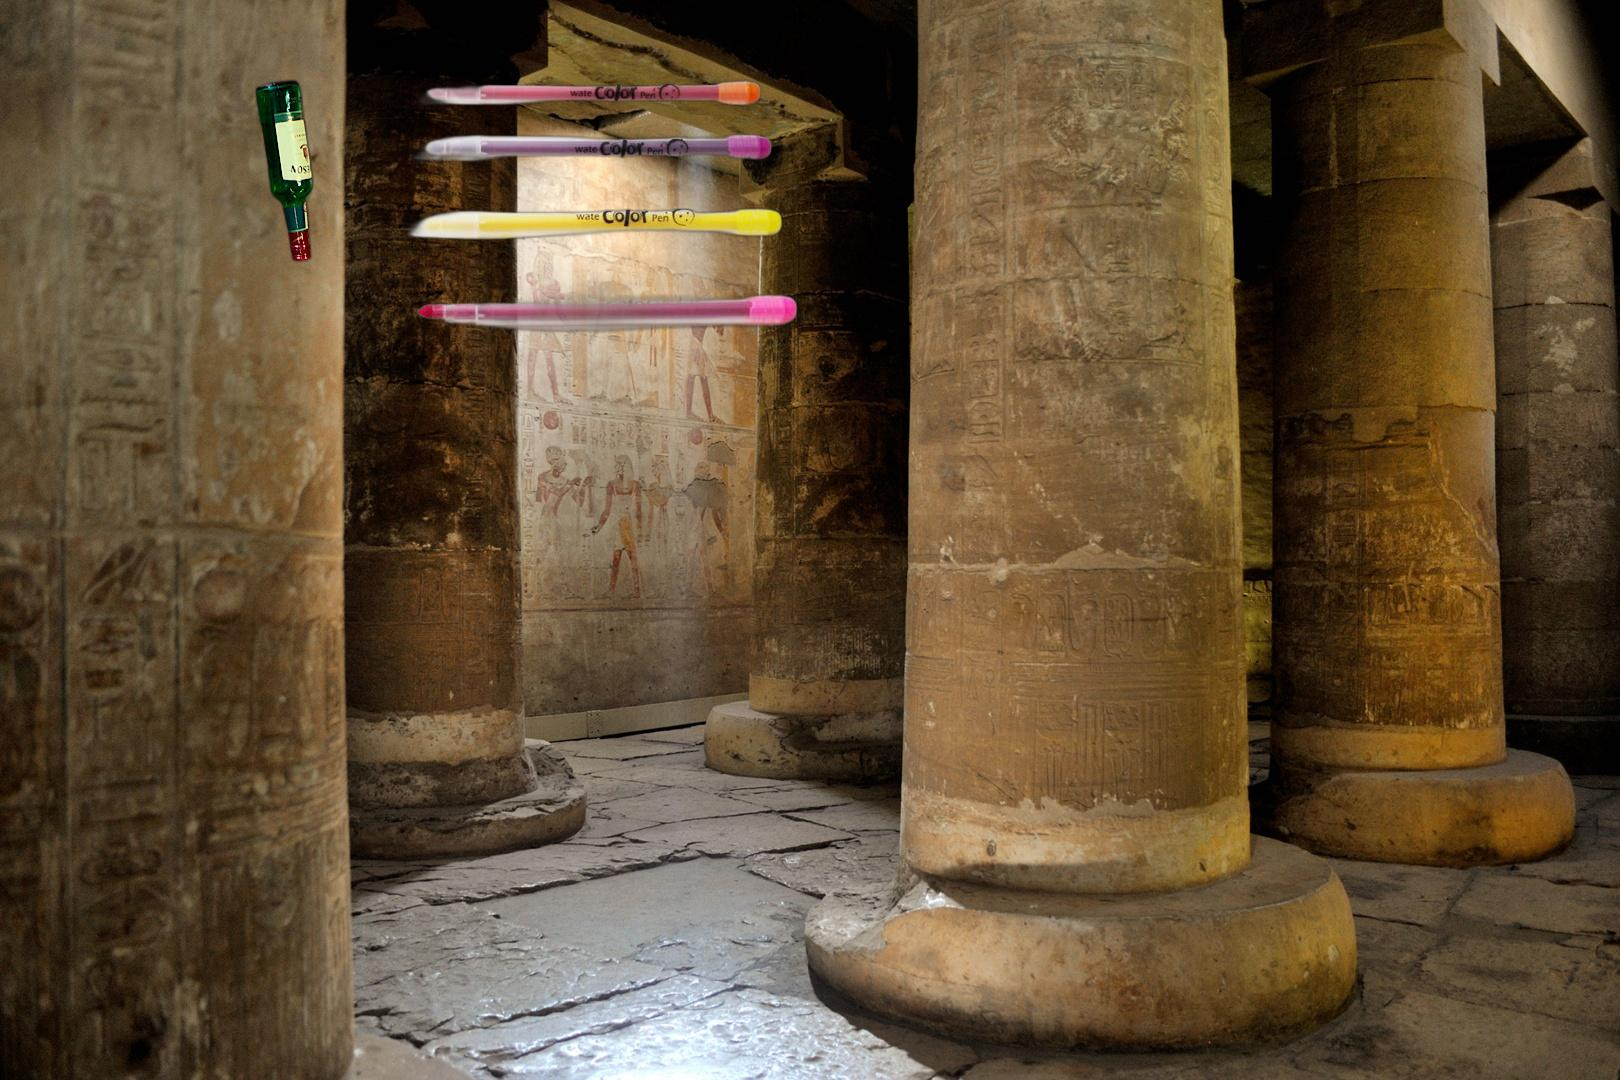glass: (40, 74, 317, 565)
penholder: (400, 76, 800, 335)
